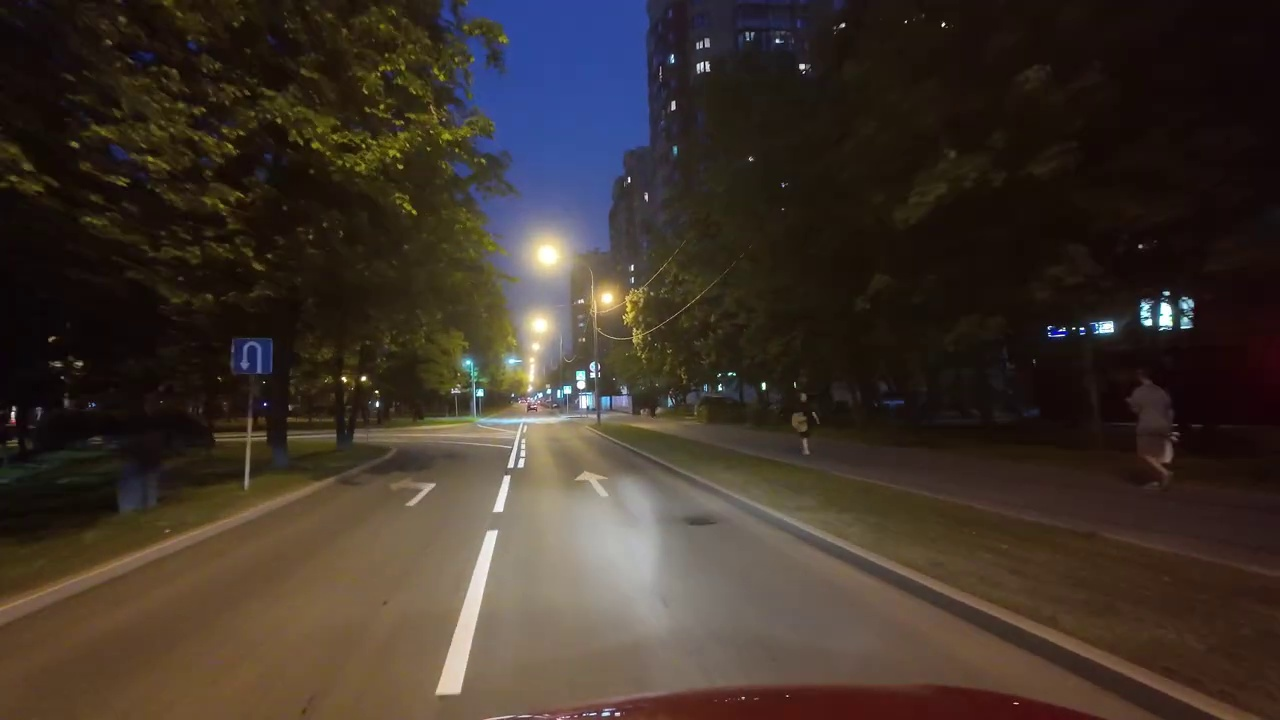acesa: (529, 236, 567, 273), (593, 285, 625, 314), (526, 311, 554, 340)
